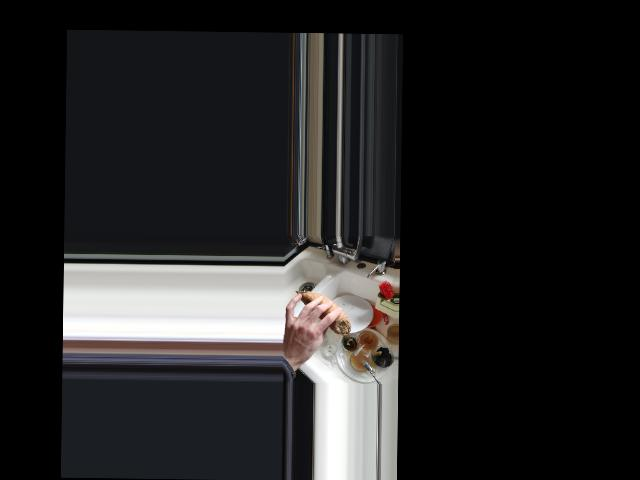sweet_potato: (294, 290, 349, 334)
